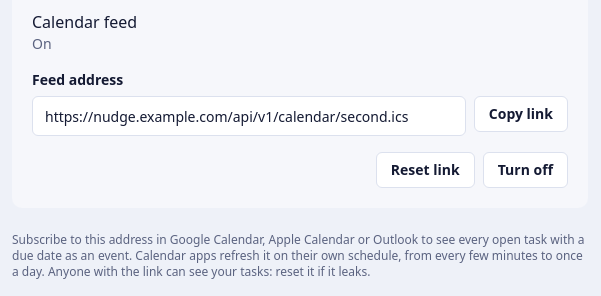
CalendarFeedSettings › resets the link to a new address
Click the button "Reset link": (425, 170) top-left (376, 152), bottom-right (475, 188)
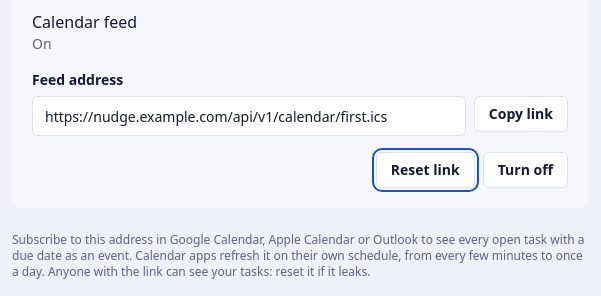
Expected: the field showing "https://nudge.example.com/api/v1/calendar/first.ics" is shown, top-left (32, 96), bottom-right (466, 136)
